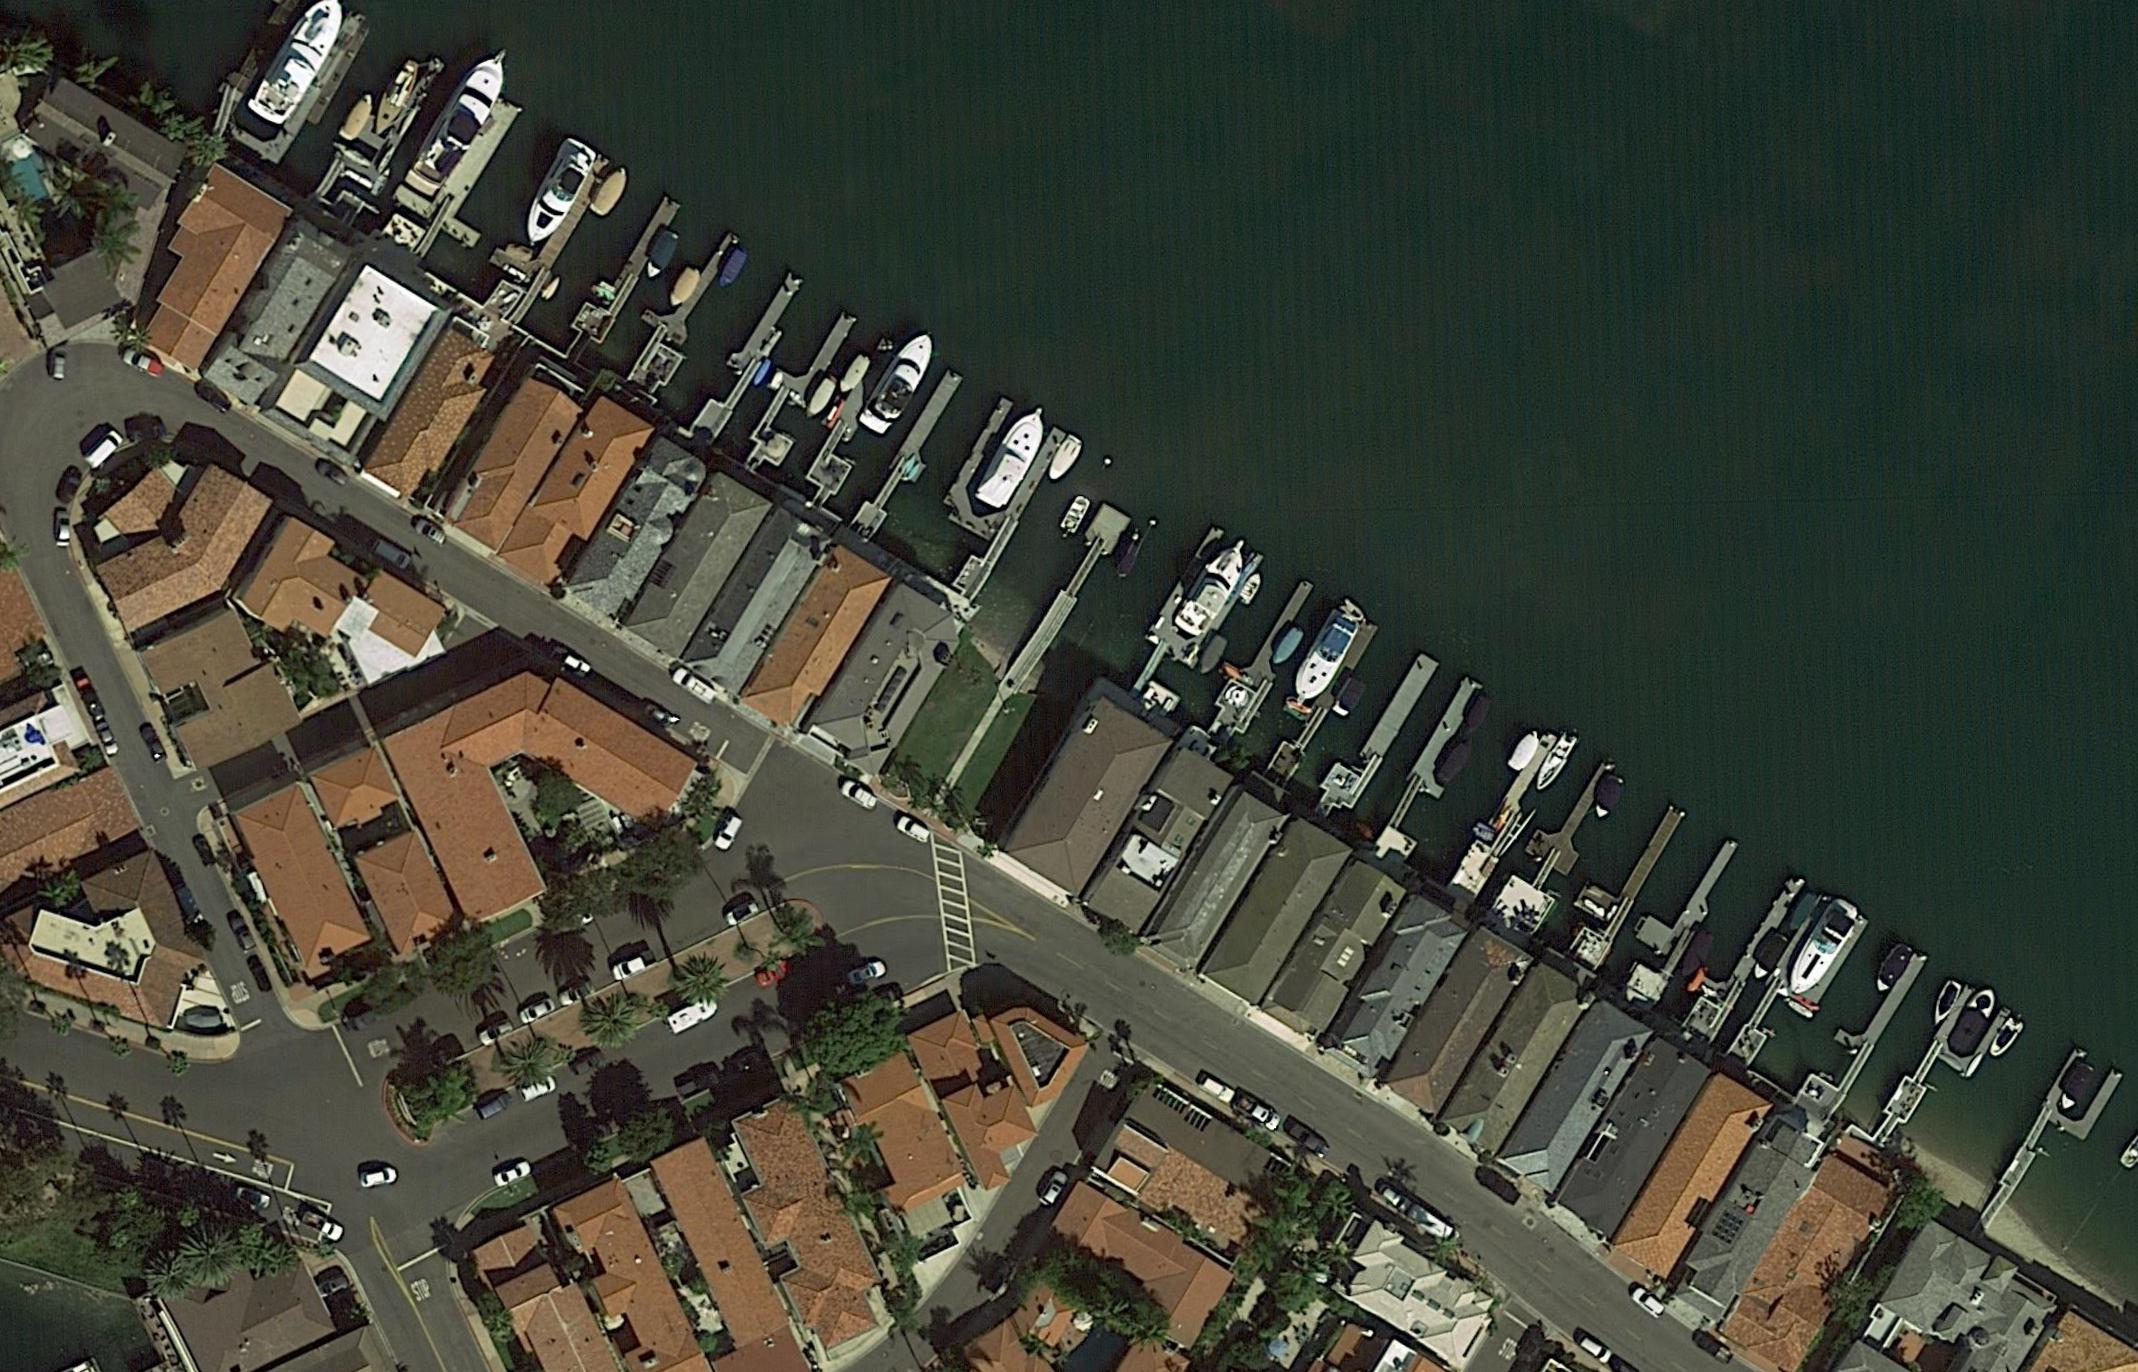harbor: (690, 271, 860, 477), (912, 396, 1067, 594), (305, 42, 455, 223), (374, 80, 520, 260), (474, 136, 612, 324), (1491, 748, 1628, 932), (1610, 826, 1747, 1010), (614, 218, 751, 401), (1734, 890, 1870, 1073), (1371, 674, 1504, 857), (1988, 1048, 2124, 1222), (1554, 787, 1685, 967), (1128, 525, 1265, 695), (1800, 935, 1929, 1112), (1314, 644, 1440, 822), (1443, 730, 1572, 903), (559, 189, 683, 366), (1201, 571, 1328, 744), (1681, 861, 1801, 1041), (1879, 985, 2012, 1149), (1258, 603, 1379, 776), (1010, 504, 1131, 674), (854, 371, 974, 538), (801, 337, 915, 504)
ship: (408, 39, 520, 192), (854, 324, 944, 444), (513, 136, 598, 253), (1173, 530, 1258, 639), (974, 402, 1057, 513), (1780, 896, 1864, 1002), (1286, 608, 1364, 706), (368, 56, 424, 140), (1946, 982, 2001, 1056), (1532, 730, 1579, 794), (1431, 736, 1477, 794), (1872, 942, 1917, 998), (587, 164, 633, 218), (1747, 932, 1790, 984), (338, 90, 380, 143), (2055, 1062, 2096, 1115), (642, 231, 681, 284), (1046, 433, 1085, 486), (1677, 931, 1717, 981), (1505, 727, 1546, 773), (1926, 978, 1963, 1027), (803, 374, 840, 423), (1783, 887, 1820, 935), (1589, 773, 1625, 822), (1329, 675, 1368, 719), (1987, 1017, 2024, 1062), (1195, 635, 1233, 680), (837, 351, 873, 398), (665, 265, 701, 310), (1459, 692, 1494, 737), (1272, 625, 1306, 670), (1058, 494, 1092, 536), (715, 248, 748, 292), (1237, 569, 1267, 606)
